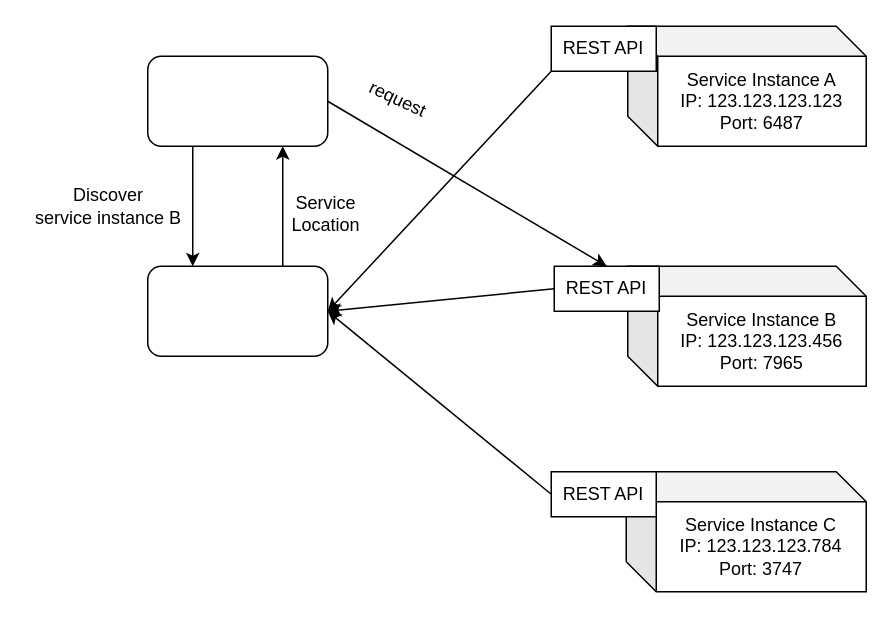
Image size: 893x618. Some labels were removed from this diagram. Here are the shapes that lost their labels. From the top down, the centre of each, then its label:
At [237,100]: "API Gateway or Client".
At [237,310]: "Service Registry".
